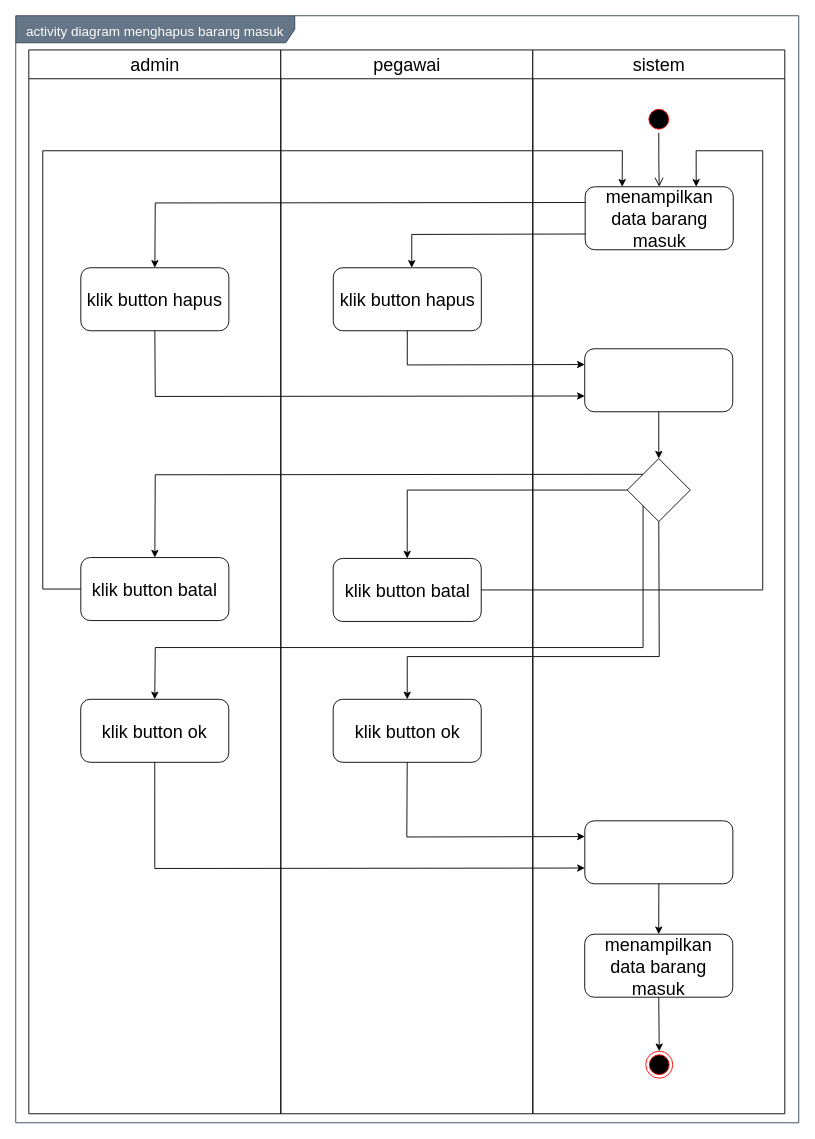
Some shapes in this 815 by 1139 pixel diagram are drawn without their labels. Each missing label, with the centre of its shape:
"menampilkan konfirmasi hapus barang masuk" goes at [658,380].
"menghapus data barang masuk" goes at [658,852].
